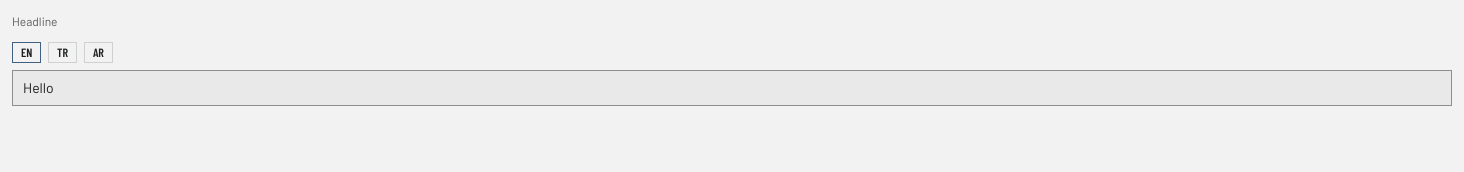
Test: LocalizedField › switches to another language without losing the others
Click the tab "TR": click(63, 53) [48,42,77,63]
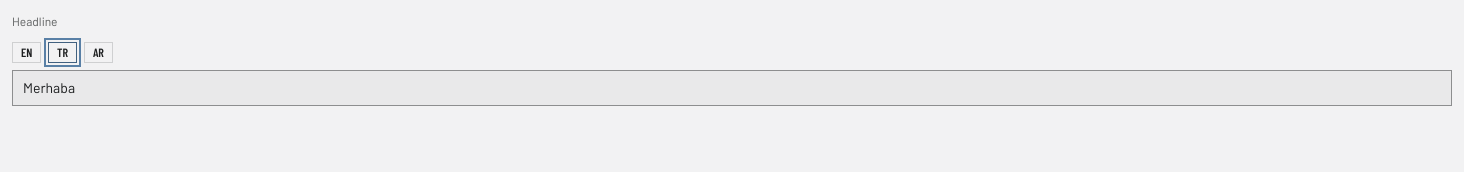
Result: the field labelled "Headline" holds "Merhaba" at [12,70,1452,106]
Click the tab "AR": click(98, 53) [84,42,113,63]
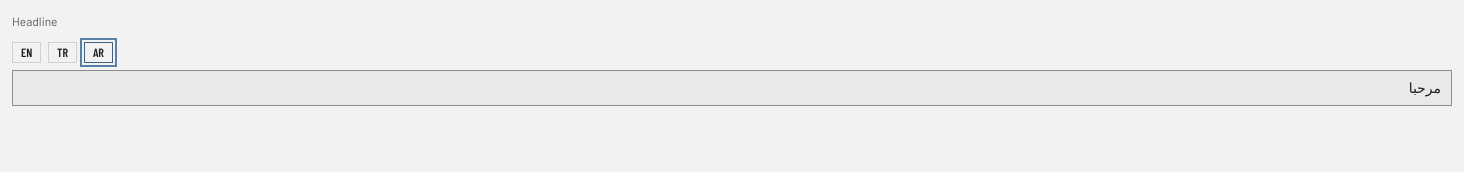
Result: the field labelled "Headline" holds "مرحبا" at [12,70,1452,106]
